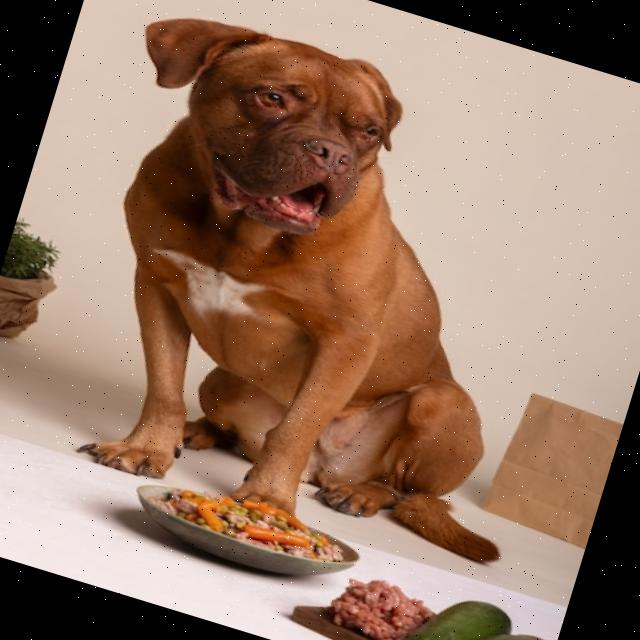Dog: (19, 0, 629, 593)
